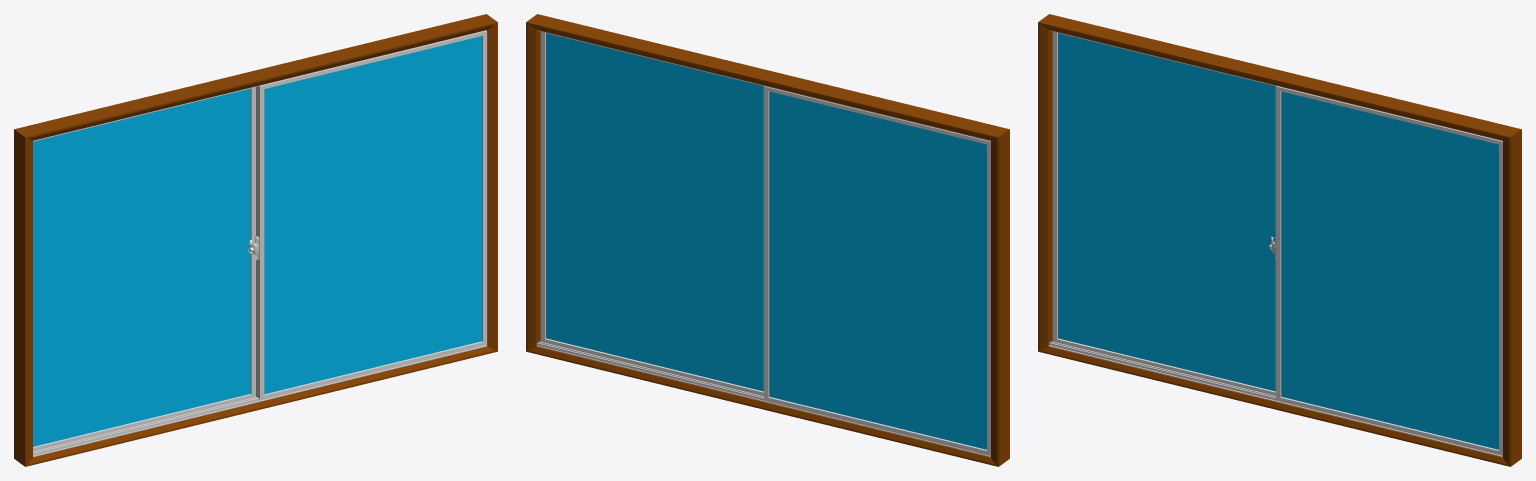
Rendered from Window.fbx.
3 renders of one model, left to right at view 1: azimuth 30°, elevation 25°; view 2: azimuth 150°, elevation 25°; view 3: azimuth 330°, elevation 25°, orthographic.
Visible parts, largest first — view 1: Window_Grass, Window_Frame, Window_Al; view 2: Window_Grass, Window_Frame, Window_Al; view 3: Window_Grass, Window_Frame, Window_Al.
Part boxes in pixels (box(x1,y1,x2,y2)): Window_Grass: box(33, 36, 481, 446); Window_Frame: box(14, 14, 497, 466); Window_Al: box(33, 30, 487, 451); Window_Grass: box(546, 33, 986, 449); Window_Frame: box(526, 14, 1009, 466); Window_Al: box(540, 31, 990, 455); Window_Grass: box(1058, 33, 1498, 449); Window_Frame: box(1038, 14, 1521, 466); Window_Al: box(1052, 31, 1502, 455).
Bounding box in the file's own units: 1.44 × 0.9604 × 0.0597.
